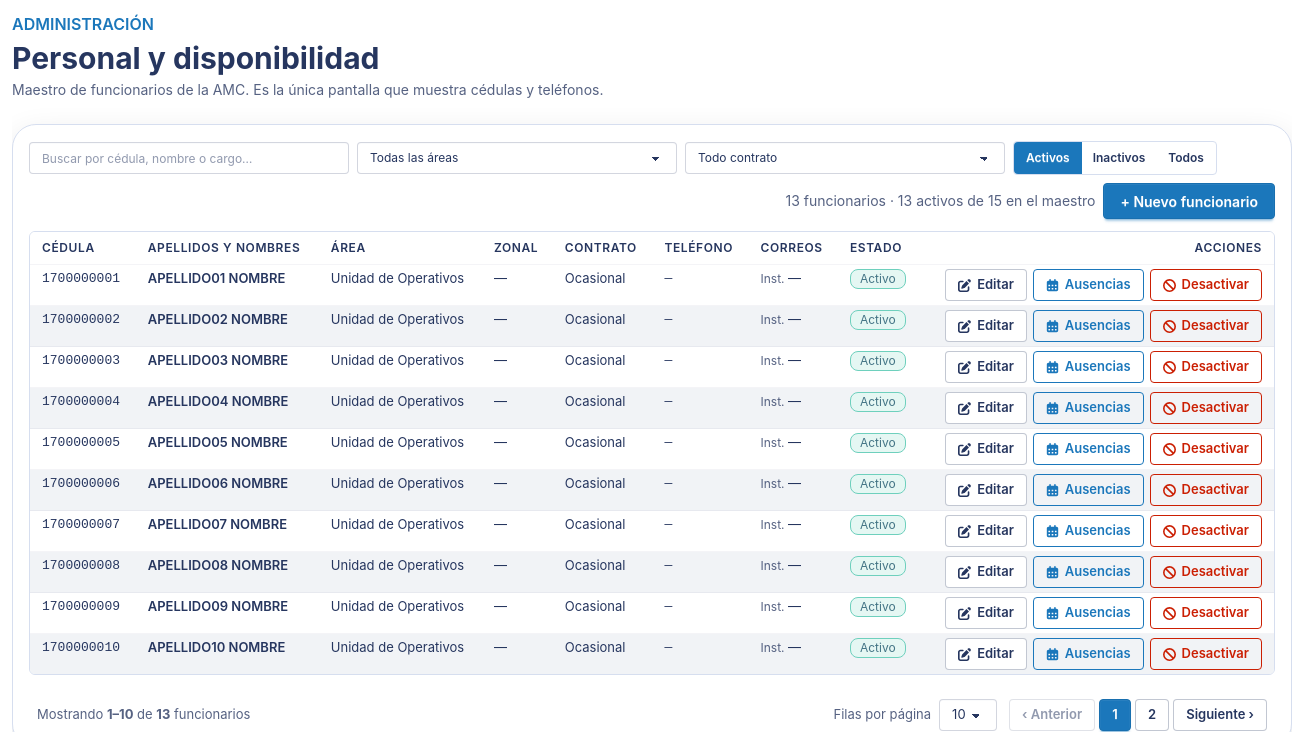
Test: P-07 · filtro inicial, contador y paginación › 10 por página: la segunda página trae las 3 restantes
Expected: the text "13 funcionarios · 13 activos de 15 en el maestro" is shown, [785, 191, 1095, 211]
Step 1. Click the button "Siguiente ›" → click(1220, 715), box [1173, 699, 1267, 731]
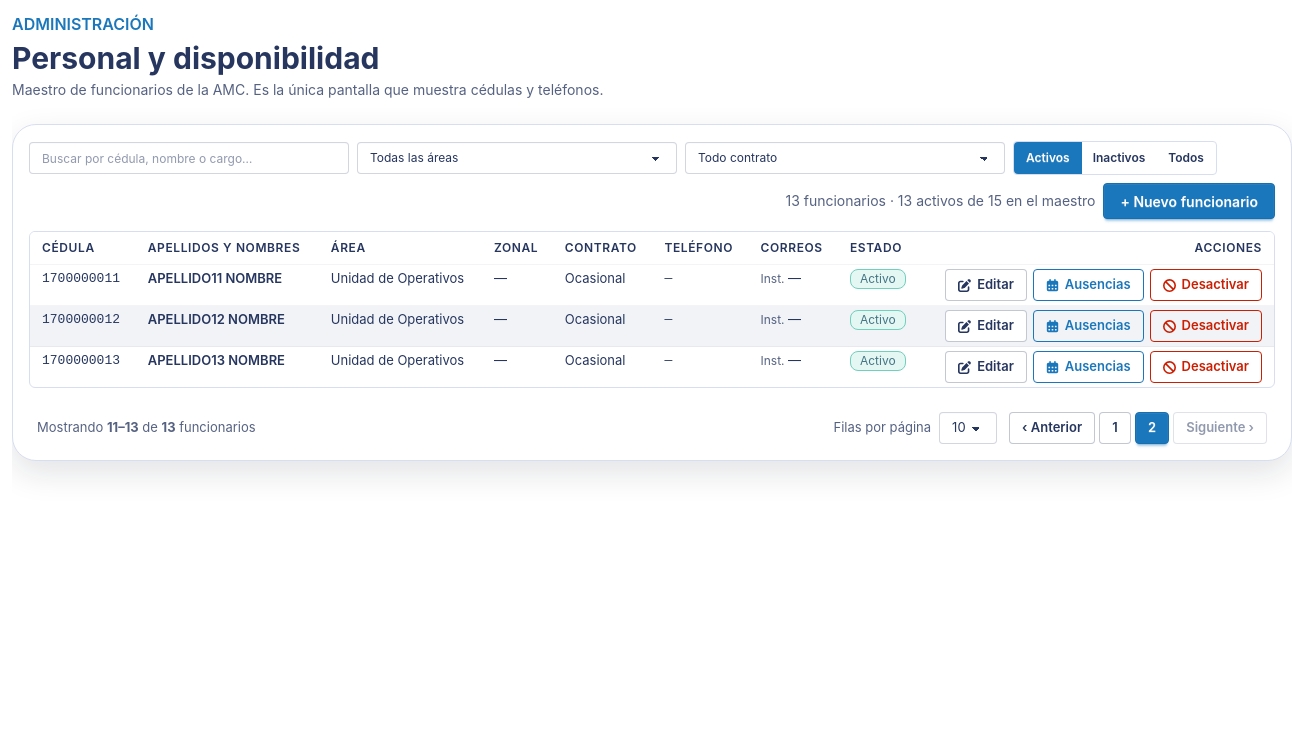
Expected: the number of rows is 4, [30, 232, 1274, 265]; [30, 265, 1274, 306]; [30, 306, 1274, 347]; [30, 347, 1274, 387]
Now the text "APELLIDO13 NOMBRE" is shown, box [148, 351, 307, 370]
